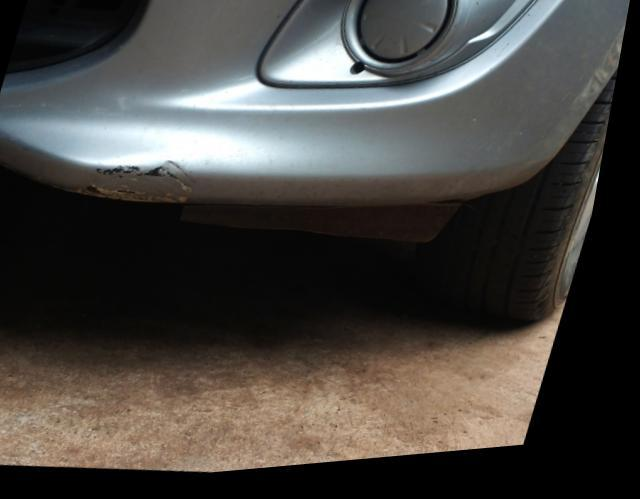scratch: (68, 159, 201, 206)
